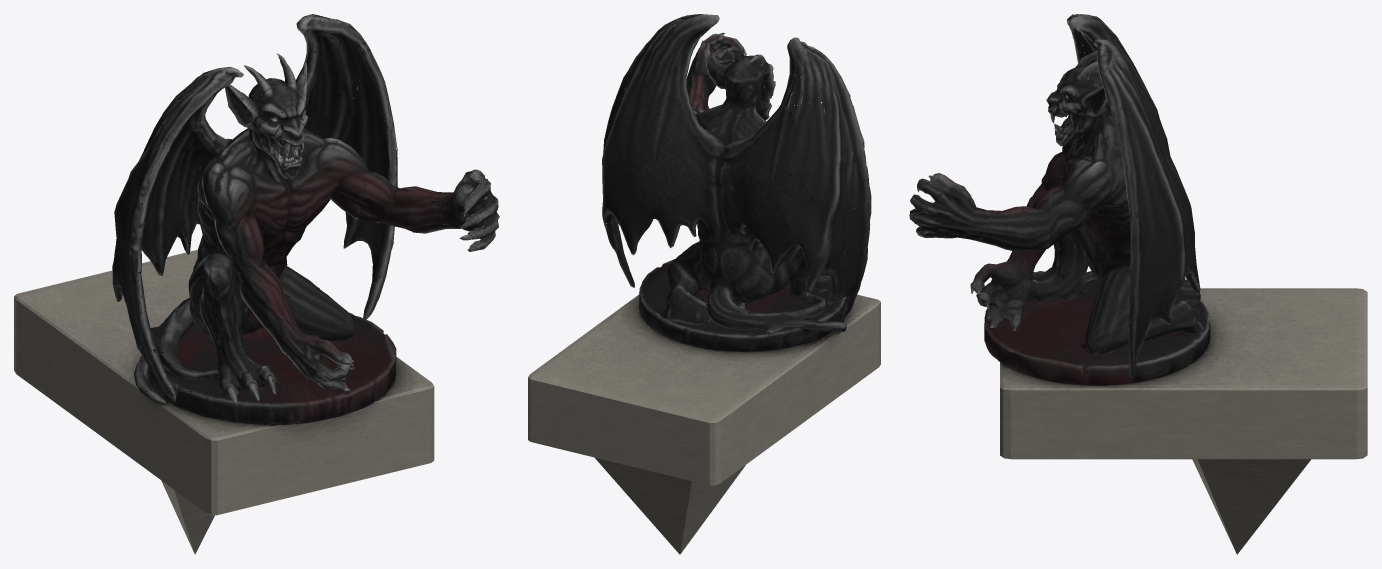
Rendered from cenario_gargula_muro.glb.
The picture shows the model from 3 angles, left to right: view 1: azimuth 30°, elevation 25°; view 2: azimuth 150°, elevation 25°; view 3: azimuth 270°, elevation 25°; orthographic projection. The views are drawn at different scales.
Parts seen in each view (by area): view 1: Mesh_0, Cube; view 2: Mesh_0, Cube; view 3: Mesh_0, Cube.
Boxes of the visible parts, x1,y1,x2,y2 form: Mesh_0: [112, 14, 499, 424]; Cube: [14, 249, 434, 554]; Mesh_0: [602, 14, 871, 351]; Cube: [528, 294, 880, 554]; Mesh_0: [909, 14, 1210, 385]; Cube: [1000, 288, 1367, 554].
Size of the model in its own units: 1.16 by 2.2 by 1.72.
2 materials, 2 textured.
